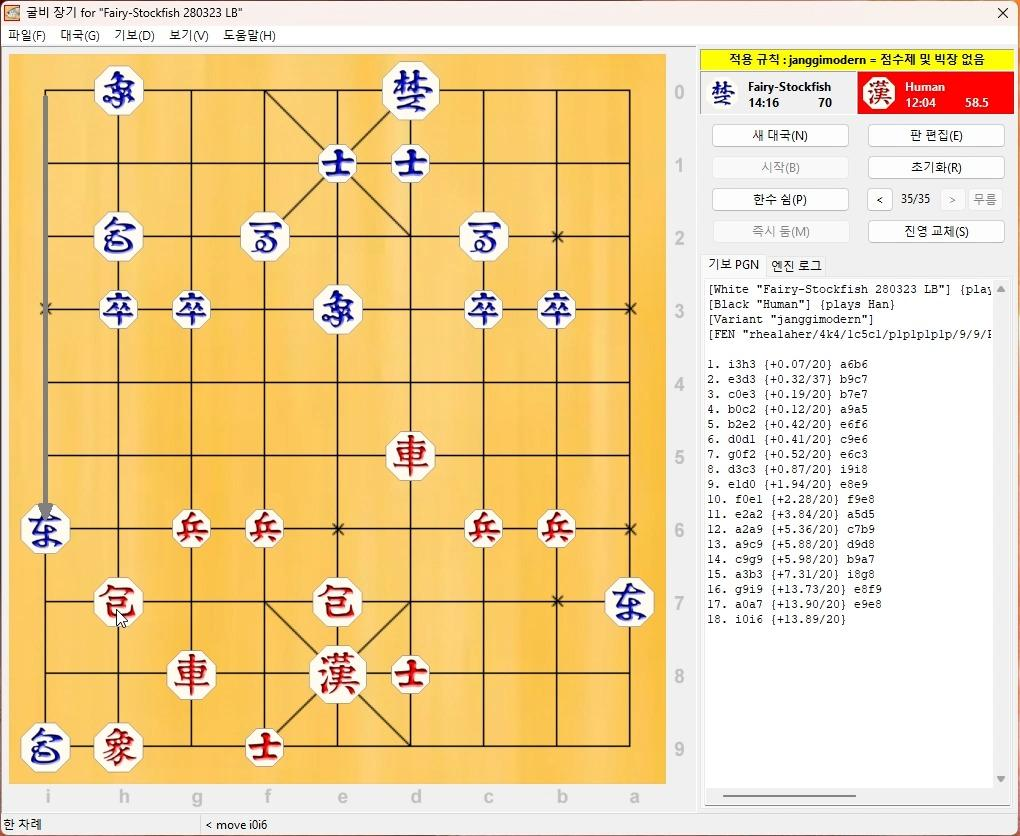cha_green: (21, 504, 69, 555), (603, 580, 653, 625)
cha_red: (170, 650, 220, 696), (386, 433, 434, 479)
jol_green: (170, 293, 210, 328), (466, 293, 505, 328), (539, 291, 578, 326), (98, 293, 137, 328)
jol_red: (536, 508, 575, 551), (463, 510, 504, 549), (172, 509, 213, 548), (243, 512, 283, 548)
ma_green: (239, 213, 289, 263), (459, 214, 507, 260)
po_green: (94, 217, 145, 262), (23, 725, 72, 768)
po_red: (315, 577, 364, 623), (94, 577, 144, 622)
sa_green: (391, 146, 430, 180), (319, 149, 359, 182)
sa_red: (245, 727, 284, 765), (391, 658, 430, 692)
sang_green: (94, 68, 144, 113), (315, 286, 364, 330)
sang_red: (92, 724, 144, 770)
wang_green: (382, 64, 439, 118)
wang_red: (309, 647, 368, 699)
